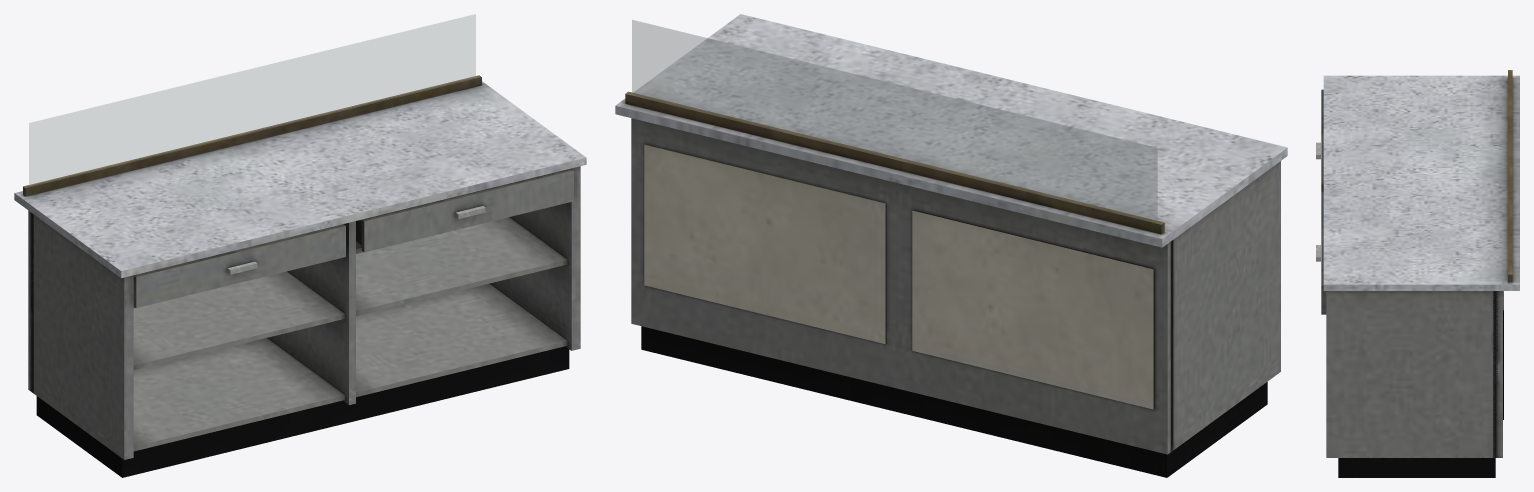
The model's file is gastro_counter_lod1_web.glb.
3 views of the same model, side by side, from view 1: azimuth 30°, elevation 25°; view 2: azimuth 150°, elevation 25°; view 3: azimuth 270°, elevation 25° (orthographic). The views are drawn at different scales.
Visible parts, largest first — view 1: GastroCounter_Body, Glass_Shield, Drawer_2_Mesh, Drawer_1_Mesh; view 2: GastroCounter_Body, Glass_Shield; view 3: GastroCounter_Body, Drawer_2_Mesh, Drawer_1_Mesh.
Part boxes in pixels (left/top/right/bottom): GastroCounter_Body: left=14, top=75, right=586, bottom=477; Glass_Shield: left=29, top=14, right=475, bottom=185; Drawer_2_Mesh: left=356, top=168, right=573, bottom=252; Drawer_1_Mesh: left=133, top=224, right=345, bottom=307; GastroCounter_Body: left=615, top=14, right=1287, bottom=477; Glass_Shield: left=632, top=20, right=1157, bottom=221; GastroCounter_Body: left=1323, top=70, right=1519, bottom=477; Drawer_2_Mesh: left=1321, top=192, right=1326, bottom=314; Drawer_1_Mesh: left=1321, top=89, right=1323, bottom=191.
Size of the model in its own units: 2.04 by 1.2 by 0.842.
3 materials, 2 textured.
